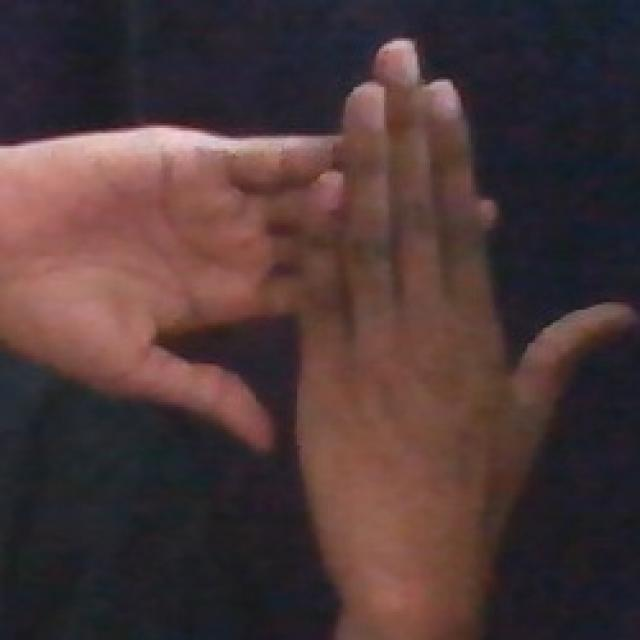Alphabet-H: (17, 42, 640, 594)
